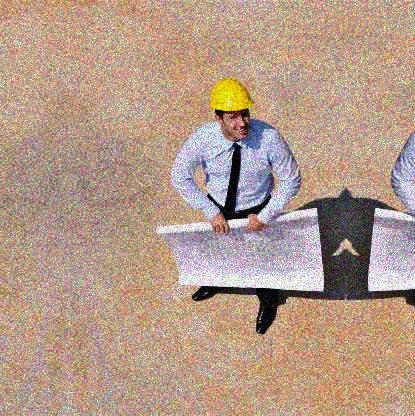helmet: (209, 77, 255, 139)
